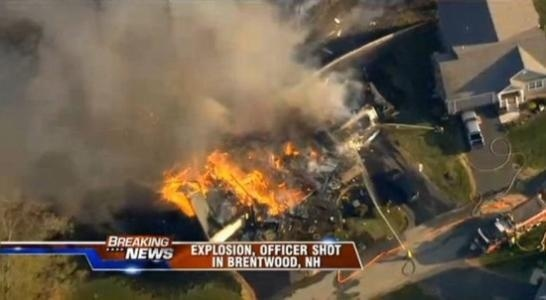fire: (159, 143, 312, 218)
